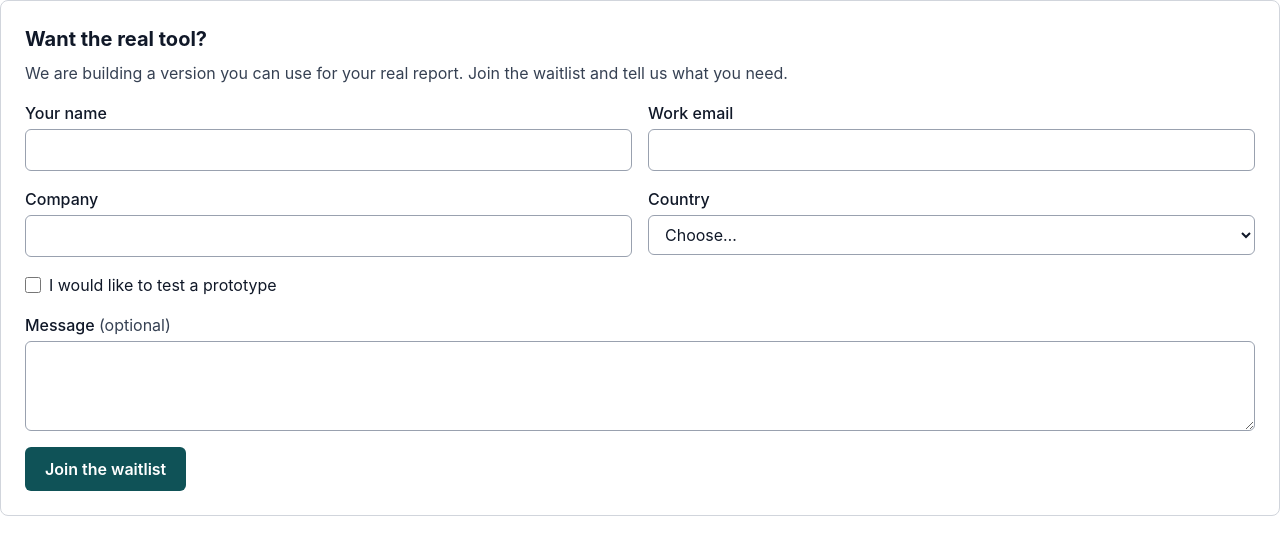
Scenario: WaitlistForm › posts JSON and says thank you
Type "Test Person" into the field labelled "Your name" at (328, 150), box [25,129,632,171]
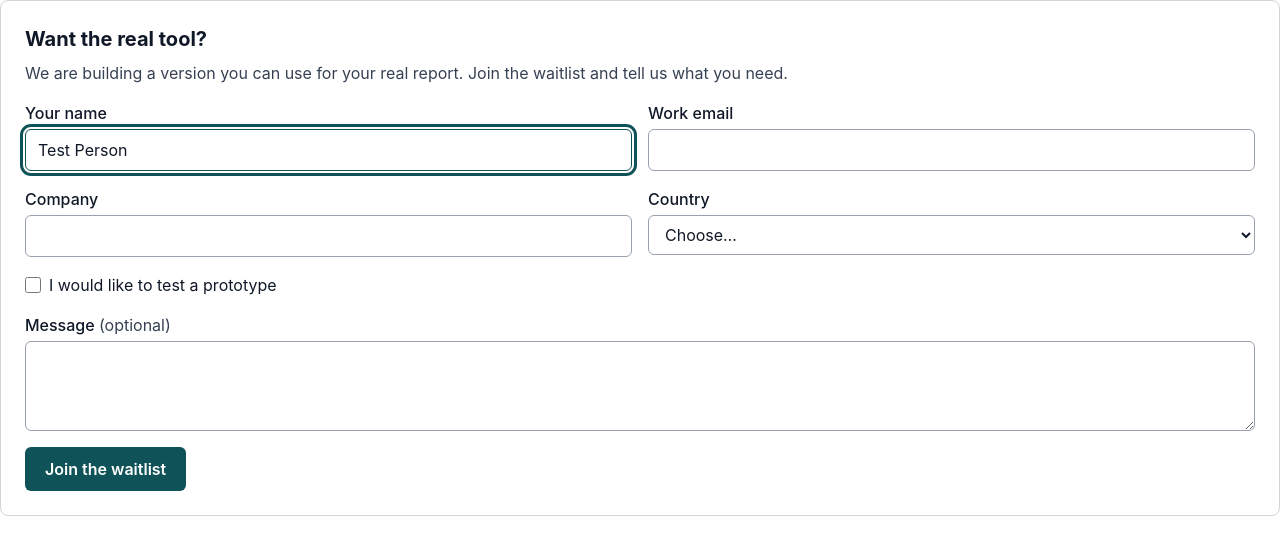
Type "test@example.com" into the field labelled "Work email" at (952, 150), box [648,129,1255,171]
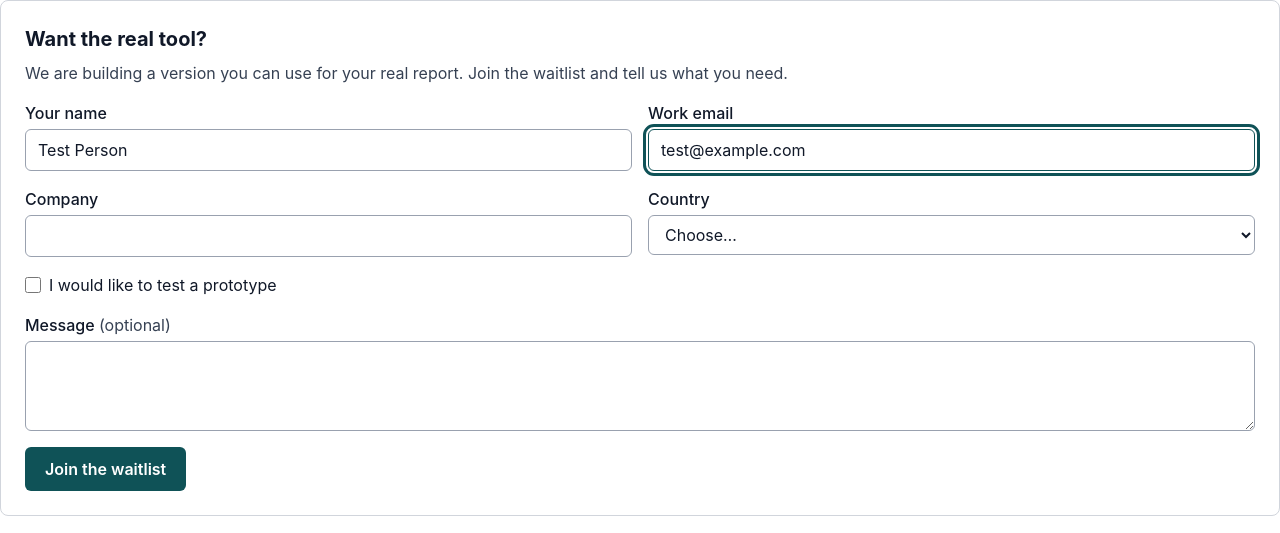
Type "Example Coatings Ltd" into the field labelled "Company" at (328, 236), box [25,215,632,257]
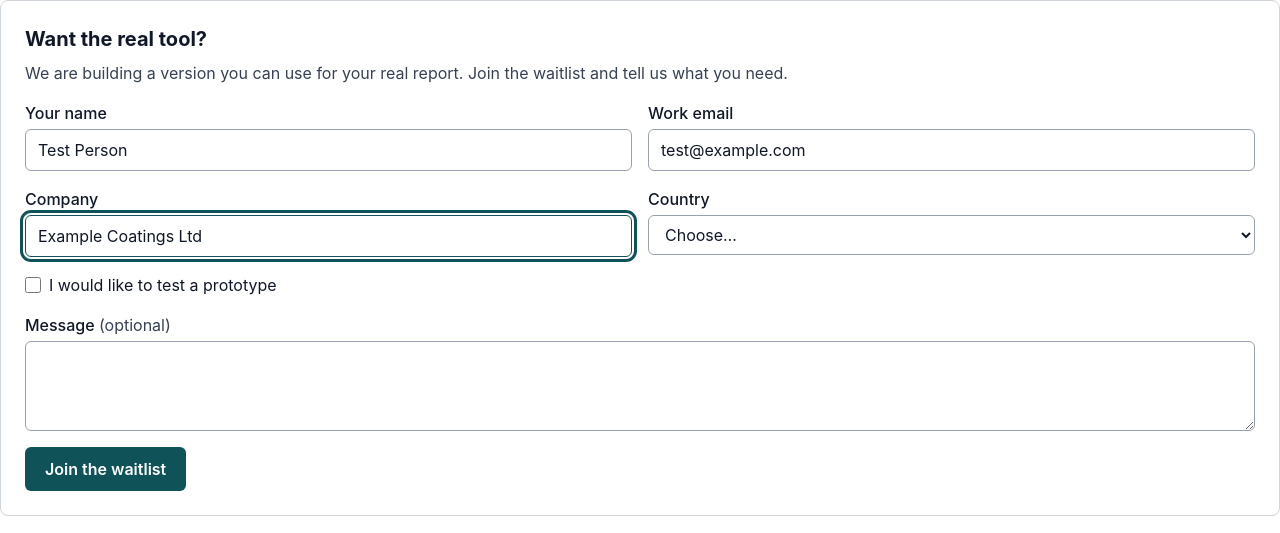
Select "Austria" in the dropdown labelled "Country" at (952, 235), box [648,215,1255,255]
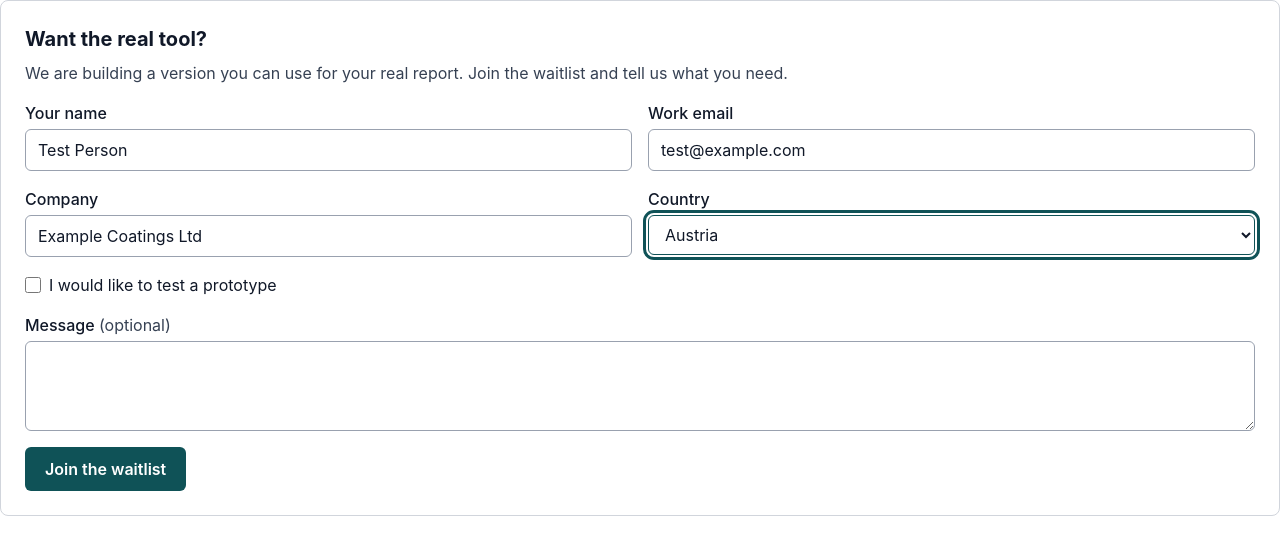
Click the button "Join the waitlist" at (106, 469), box [25,447,186,491]
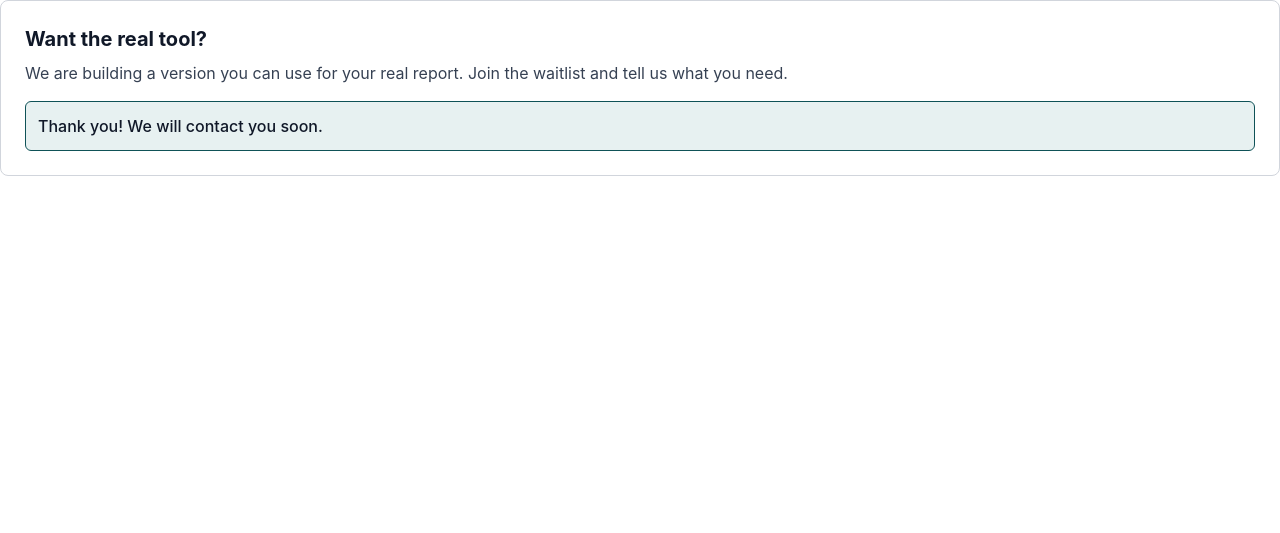
Check: the text "Thank you! We will contact you soon." is shown, box [25,101,1255,151]
